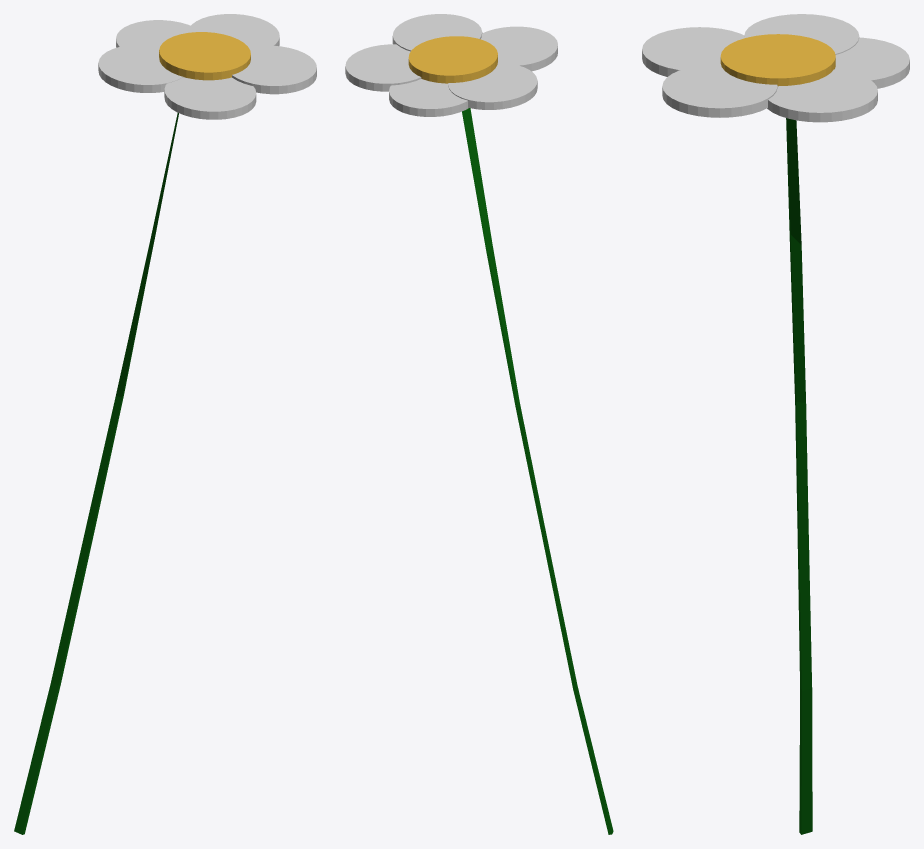
Rendered from flor.fbx.
The picture shows the model from 3 angles, left to right: view 1: azimuth 30°, elevation 25°; view 2: azimuth 150°, elevation 25°; view 3: azimuth 270°, elevation 25°; orthographic projection. The views are drawn at different scales.
Visible parts, largest first — view 1: Cubo.133, Cilindro.002, Cilindro.007, Cilindro.006, Cilindro.004, Cilindro.005, Cilindro.003; view 2: Cubo.133, Cilindro.002, Cilindro.004, Cilindro.005, Cilindro.007, Cilindro.003, Cilindro.006; view 3: Cubo.133, Cilindro.002, Cilindro.006, Cilindro.005, Cilindro.007, Cilindro.003, Cilindro.004.
Part boxes in pixels (x1,y1,x2,y2): Cubo.133: [14, 113, 178, 834]; Cilindro.002: [159, 32, 250, 80]; Cilindro.007: [164, 77, 256, 119]; Cilindro.006: [232, 45, 316, 94]; Cilindro.004: [98, 44, 182, 92]; Cilindro.005: [188, 14, 279, 47]; Cilindro.003: [116, 20, 190, 47]; Cubo.133: [462, 108, 613, 834]; Cilindro.002: [408, 36, 497, 83]; Cilindro.004: [448, 62, 537, 109]; Cilindro.005: [345, 44, 421, 91]; Cilindro.007: [481, 26, 557, 71]; Cilindro.003: [389, 79, 468, 116]; Cilindro.006: [392, 14, 482, 51]; Cubo.133: [786, 118, 812, 834]; Cilindro.002: [720, 34, 835, 86]; Cilindro.006: [662, 64, 777, 117]; Cilindro.005: [767, 69, 877, 122]; Cilindro.007: [642, 27, 744, 76]; Cilindro.003: [835, 37, 909, 88]; Cilindro.004: [744, 14, 859, 54].
Size of the model in its own units: 5.91 by 16.08 by 4.46.
